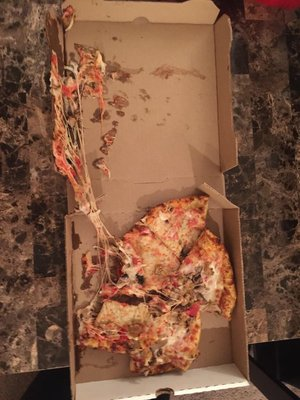sandwich: (75, 193, 237, 377)
